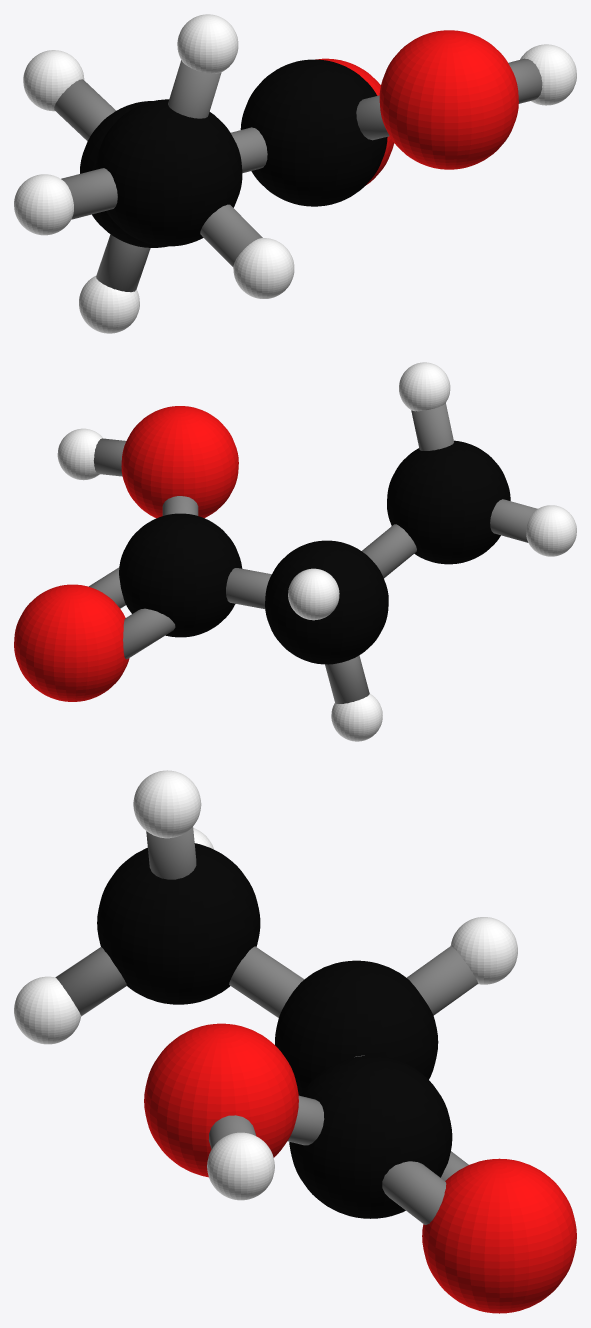
The model's file is PROPANOICO.obj.
The picture shows the model from 3 angles, top to bottom: view 1: azimuth 30°, elevation 25°; view 2: azimuth 150°, elevation 25°; view 3: azimuth 270°, elevation 25°; orthographic projection. The views are drawn at different scales.
Visible parts, largest first — view 1: Carbon_ball_Sphere.002, Oxygen_ball_Sphere, Hydrogen_ball_Sphere.001, Stick_Cylinder.005_Cylinder.005, Stick_Cylinder.007_Cylinder.007, Stick_Cylinder.003_Cylinder.003, Stick_Cylinder.002_Cylinder.002, Stick_Cylinder.001_Cylinder.001, Stick_Cylinder.006_Cylinder.006, Stick_Cylinder.004_Cylinder.004, Stick_Cylinder.009_Cylinder.009; view 2: Carbon_ball_Sphere.002, Oxygen_ball_Sphere, Hydrogen_ball_Sphere.001, Stick_Cylinder.010_Cylinder.010, Stick_Cylinder.008_Cylinder.008, Stick_Cylinder.005_Cylinder.005, Stick_Cylinder.003_Cylinder.003, Stick_Cylinder.006_Cylinder.006, Stick_Cylinder.001_Cylinder.001, Stick_Cylinder.004_Cylinder.004, Stick_Cylinder_Cylinder, Stick_Cylinder.009_Cylinder.009; view 3: Carbon_ball_Sphere.002, Oxygen_ball_Sphere, Hydrogen_ball_Sphere.001, Stick_Cylinder.008_Cylinder.008, Stick_Cylinder_Cylinder, Stick_Cylinder.002_Cylinder.002, Stick_Cylinder.007_Cylinder.007, Stick_Cylinder.003_Cylinder.003, Stick_Cylinder.009_Cylinder.009, Stick_Cylinder.004_Cylinder.004.
Part boxes in pixels (bbox=[...]): Carbon_ball_Sphere.002: bbox=[80, 59, 387, 247]; Oxygen_ball_Sphere: bbox=[315, 30, 518, 185]; Hydrogen_ball_Sphere.001: bbox=[14, 14, 576, 333]; Stick_Cylinder.005_Cylinder.005: bbox=[96, 234, 150, 292]; Stick_Cylinder.007_Cylinder.007: bbox=[54, 79, 116, 140]; Stick_Cylinder.003_Cylinder.003: bbox=[168, 60, 221, 118]; Stick_Cylinder.002_Cylinder.002: bbox=[200, 204, 262, 266]; Stick_Cylinder.001_Cylinder.001: bbox=[61, 168, 117, 219]; Stick_Cylinder.006_Cylinder.006: bbox=[231, 127, 267, 173]; Stick_Cylinder.004_Cylinder.004: bbox=[508, 58, 542, 103]; Stick_Cylinder.009_Cylinder.009: bbox=[356, 95, 389, 140]; Carbon_ball_Sphere.002: bbox=[119, 440, 510, 664]; Oxygen_ball_Sphere: bbox=[14, 406, 238, 701]; Hydrogen_ball_Sphere.001: bbox=[57, 362, 576, 741]; Stick_Cylinder.010_Cylinder.010: bbox=[123, 608, 175, 659]; Stick_Cylinder.008_Cylinder.008: bbox=[361, 524, 416, 578]; Stick_Cylinder.005_Cylinder.005: bbox=[325, 655, 369, 703]; Stick_Cylinder.003_Cylinder.003: bbox=[411, 403, 453, 450]; Stick_Cylinder.006_Cylinder.006: bbox=[226, 568, 271, 608]; Stick_Cylinder.001_Cylinder.001: bbox=[490, 499, 537, 542]; Stick_Cylinder.004_Cylinder.004: bbox=[93, 438, 126, 476]; Stick_Cylinder_Cylinder: bbox=[89, 567, 125, 608]; Stick_Cylinder.009_Cylinder.009: bbox=[162, 496, 198, 515]; Carbon_ball_Sphere.002: bbox=[97, 843, 452, 1218]; Oxygen_ball_Sphere: bbox=[144, 1023, 576, 1313]; Hydrogen_ball_Sphere.001: bbox=[14, 770, 517, 1200]; Stick_Cylinder.008_Cylinder.008: bbox=[229, 946, 304, 1017]; Stick_Cylinder_Cylinder: bbox=[382, 1161, 446, 1224]; Stick_Cylinder.002_Cylinder.002: bbox=[55, 947, 126, 1016]; Stick_Cylinder.007_Cylinder.007: bbox=[406, 946, 478, 1015]; Stick_Cylinder.003_Cylinder.003: bbox=[146, 827, 196, 879]; Stick_Cylinder.009_Cylinder.009: bbox=[287, 1095, 324, 1145]; Stick_Cylinder.004_Cylinder.004: bbox=[209, 1115, 256, 1149].
Bounding box in the file's own units: 6.32 × 3.91 × 4.78.
